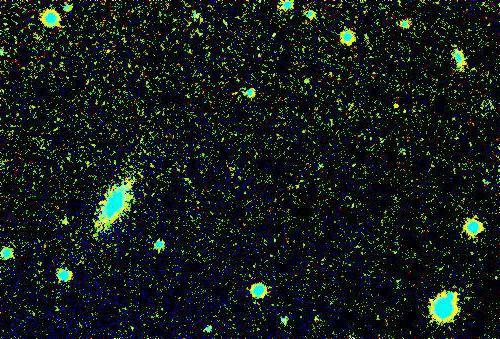star: (378, 91, 408, 121)
